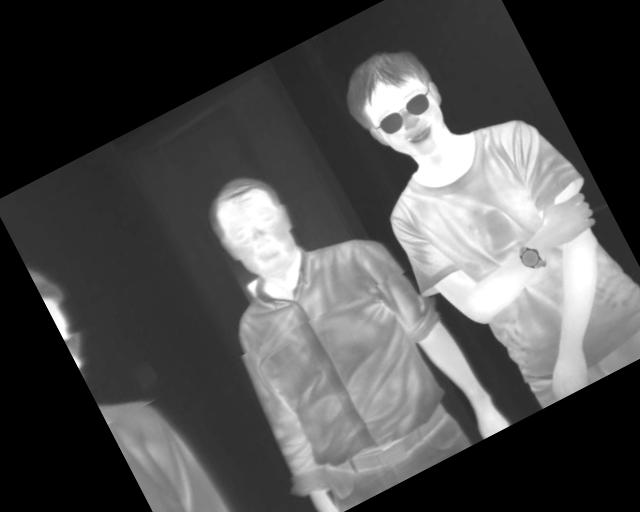face: (332, 34, 464, 179), (196, 162, 312, 293)
